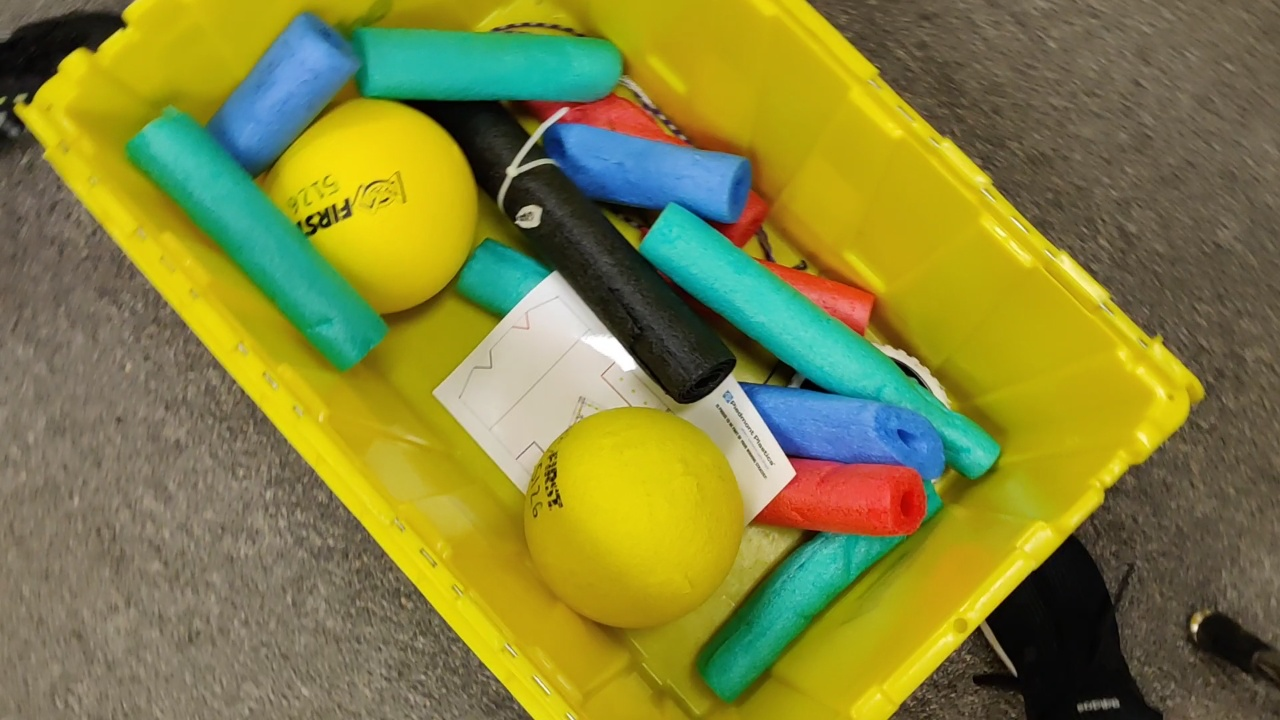Ball: (522, 404, 747, 631), (254, 100, 481, 313)
